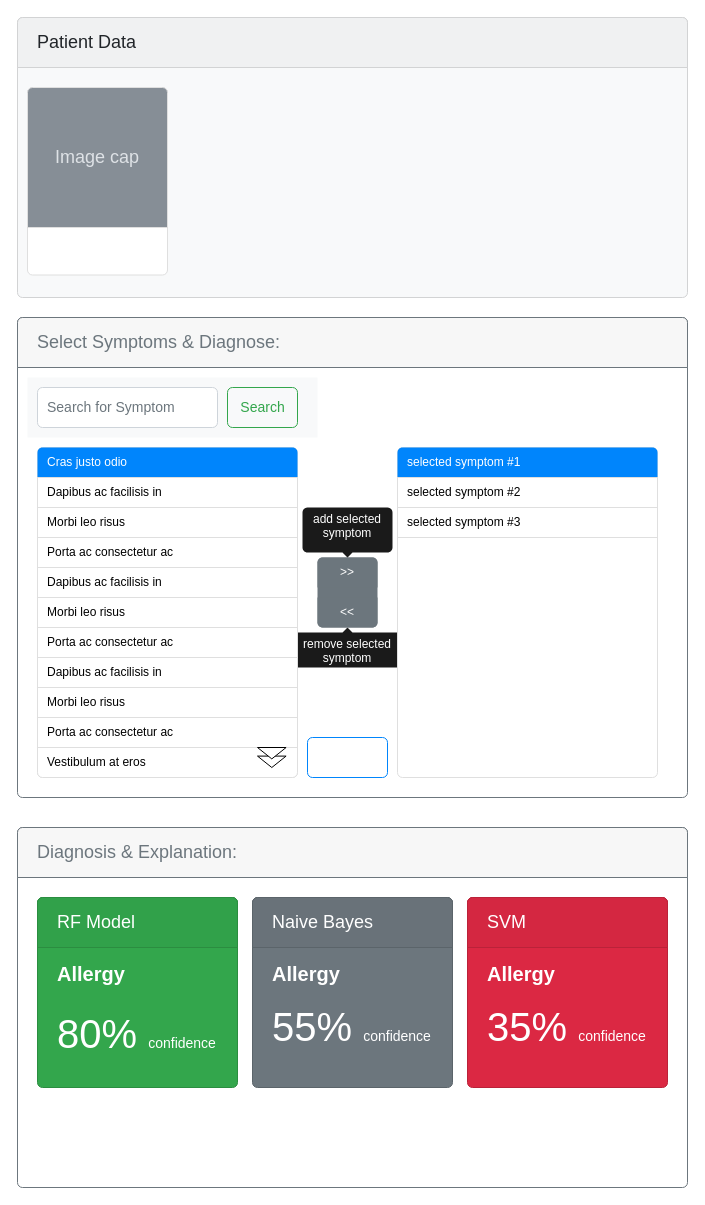
Image size: 705x1205. Some labels were removed from this diagram. The box of each missing label's shape, as (x1, y1, x2, y2) in pixels:
Diagnose: (306, 736, 388, 778)
John Doe: (26, 86, 168, 275)
